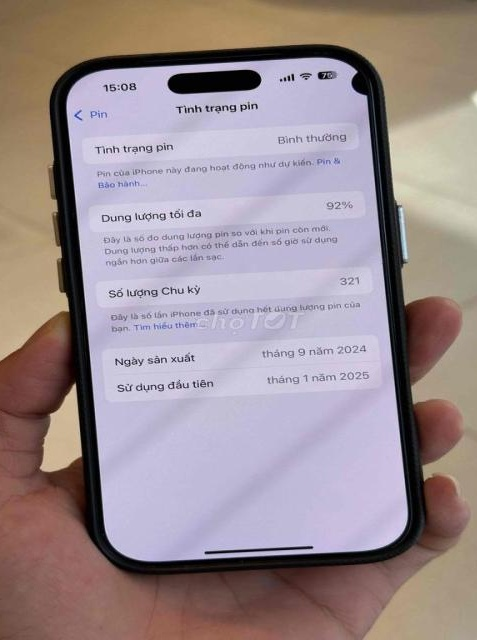screen_defect: (330, 59, 386, 108)
